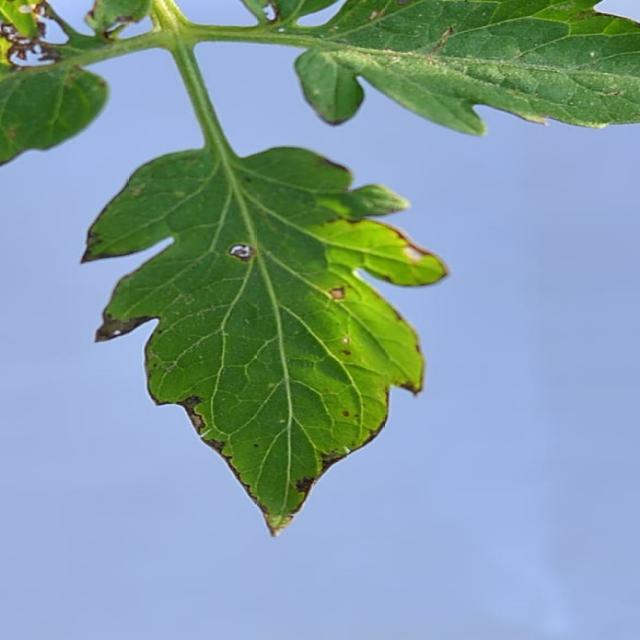infected: (76, 212, 452, 538), (256, 0, 457, 56), (4, 3, 166, 69)
